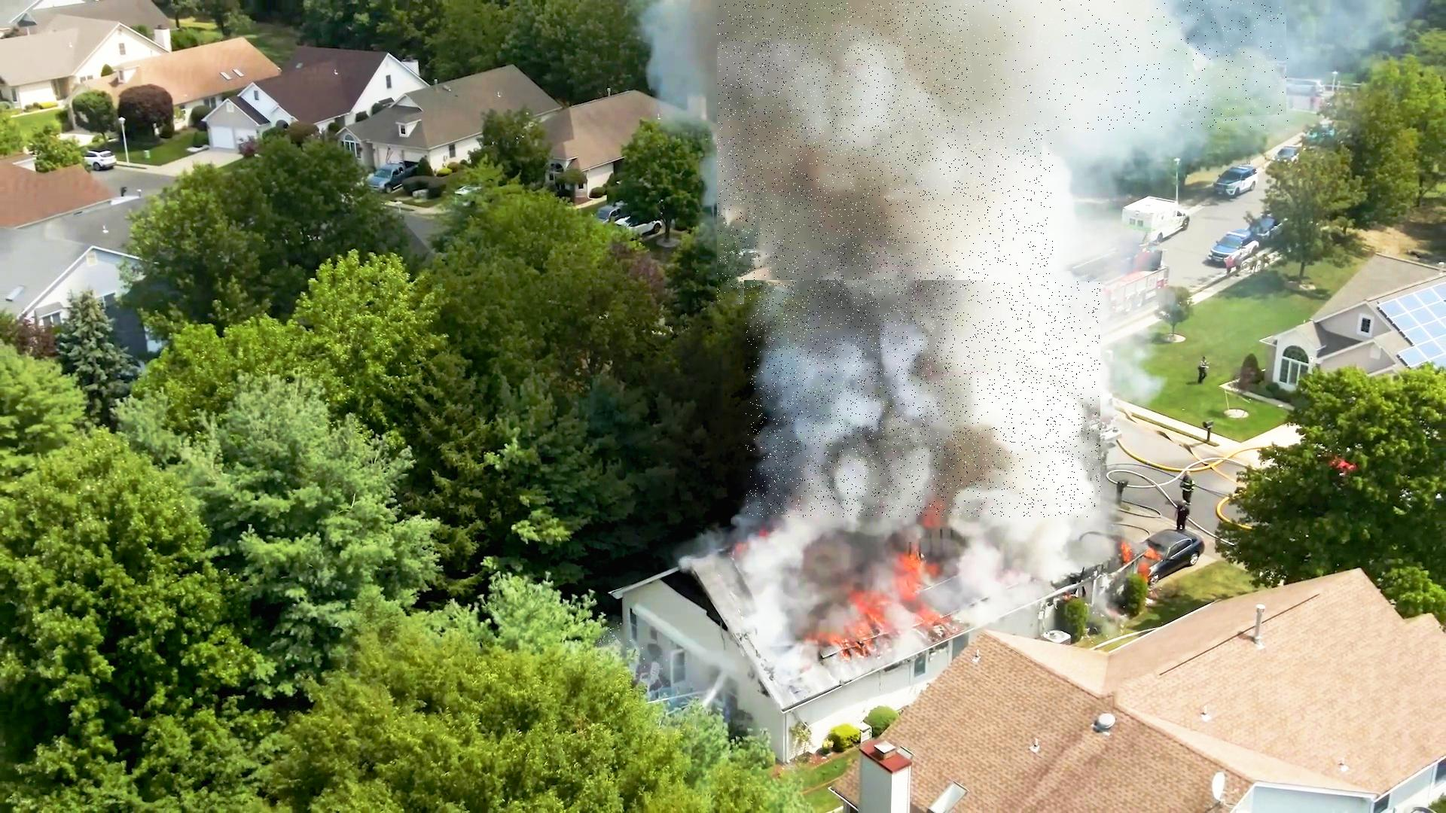smoke: (718, 2, 1054, 306), (746, 282, 1100, 518), (969, 0, 1288, 130)
